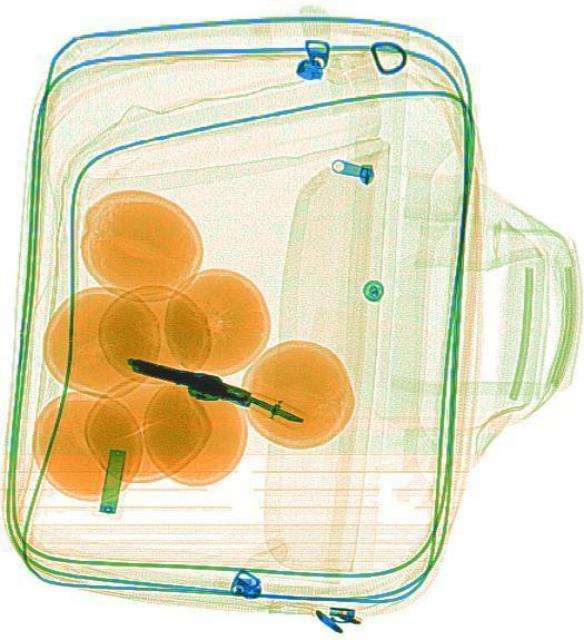Gun: (121, 345, 308, 433)
